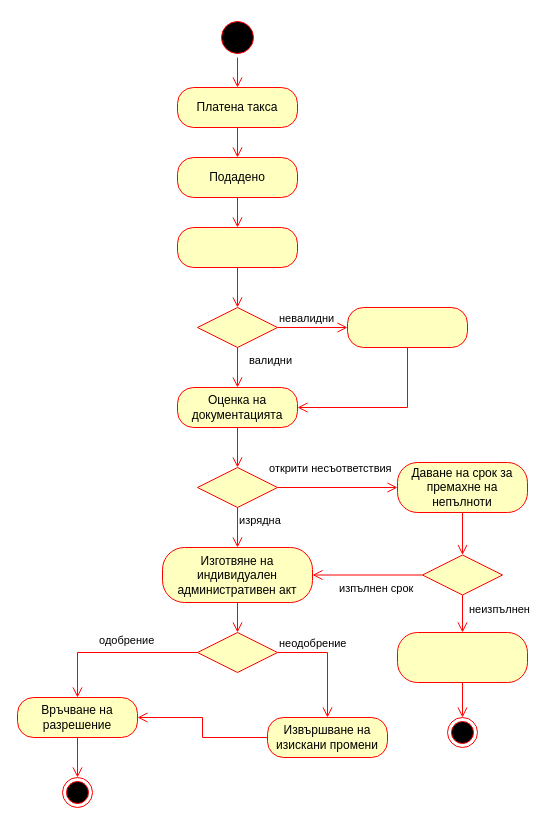
Some shapes in this 548 by 825 pixel diagram are drawn without their labels. Each missing label, with the centre of its shape:
Валидация на документи: point (237, 247)
Прекратяване на процедурата и уведомяване: point (462, 657)
Премахване на несъответствия: point (407, 327)
